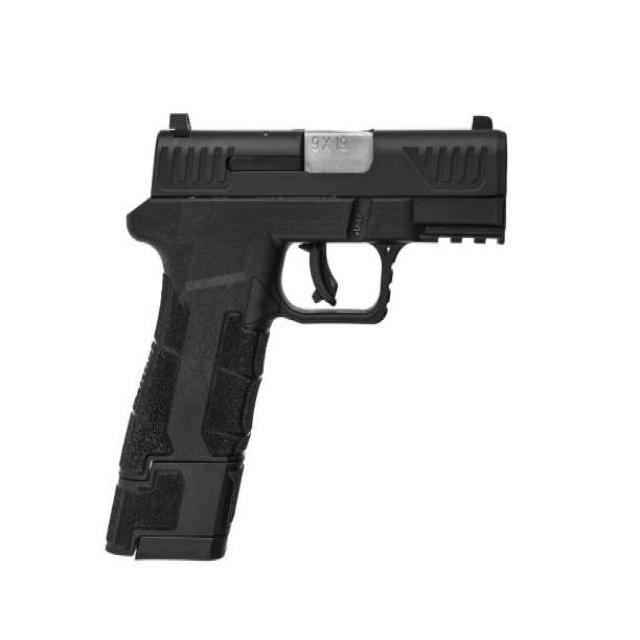pistol: (101, 104, 526, 579)
